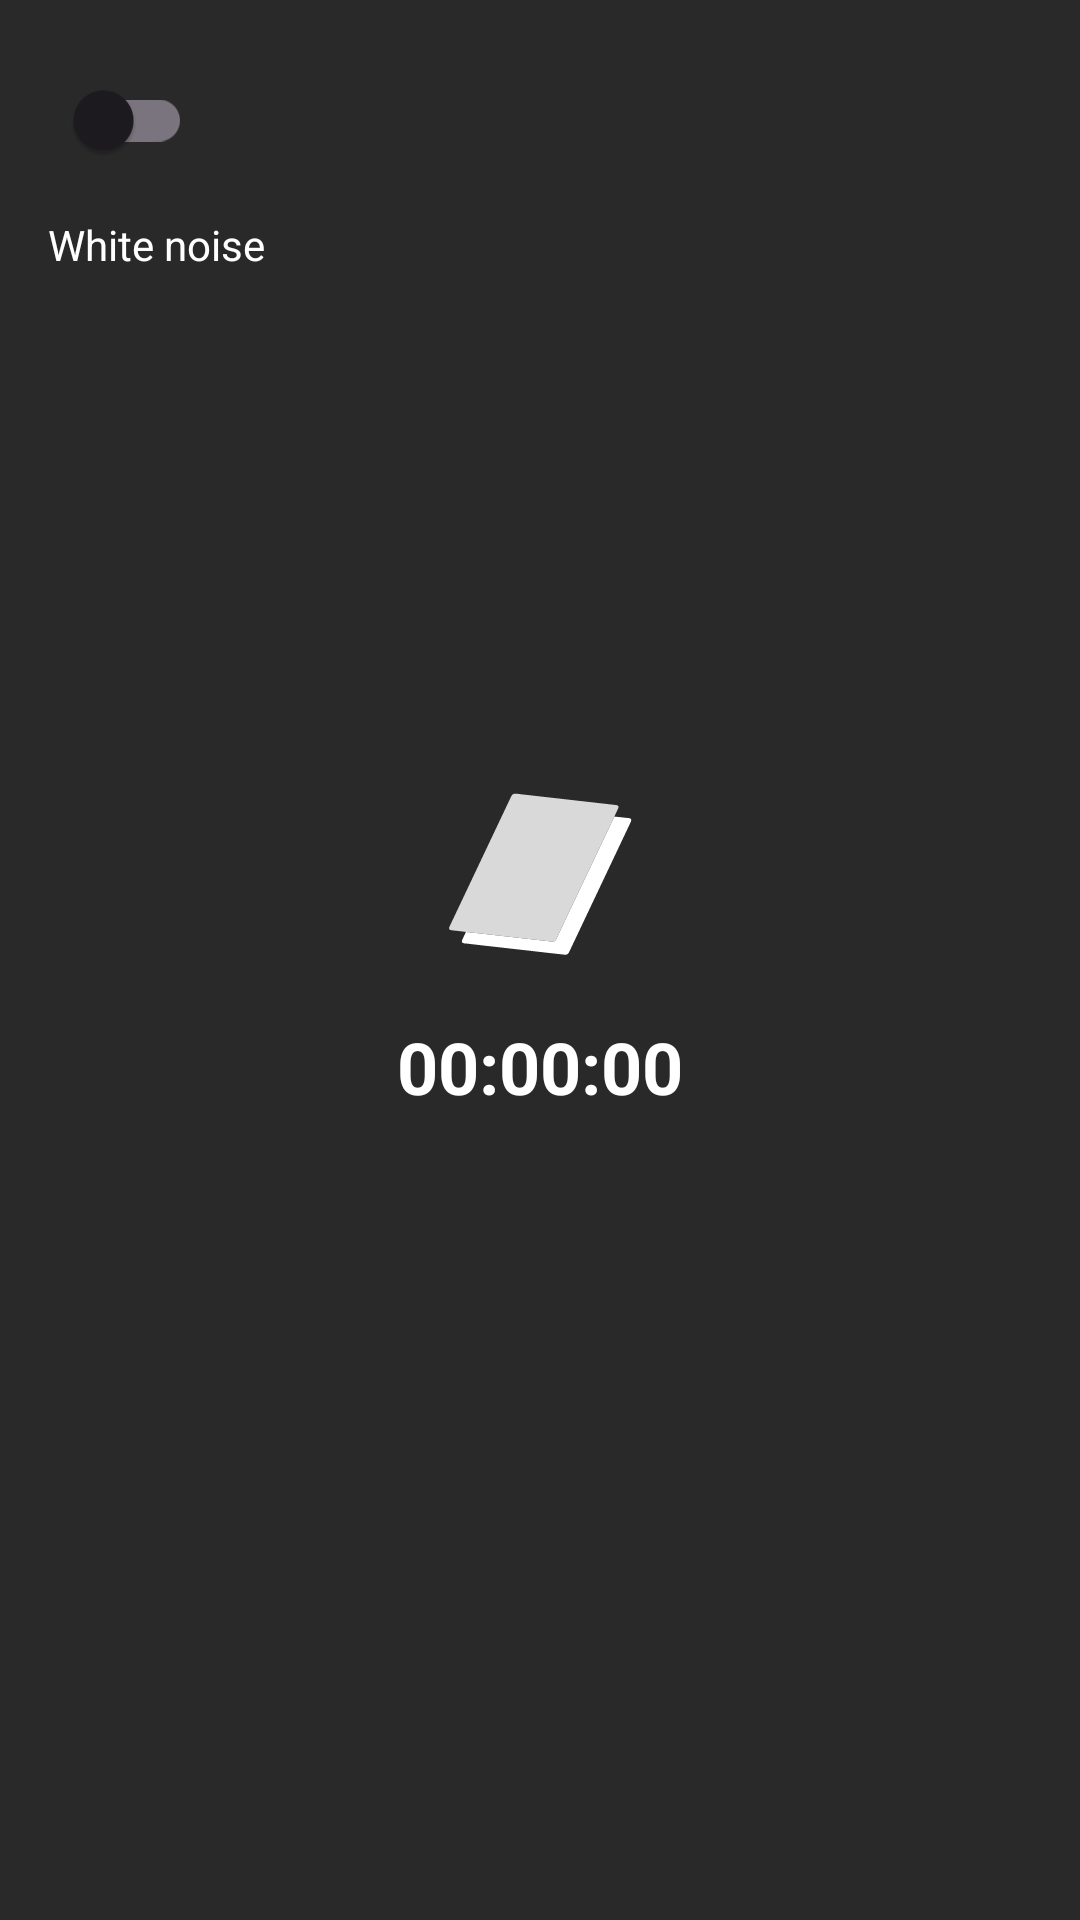

Icon bounding boxes for this 1080w x 1920h phone screenshot, format [x1,y1,x2,y2]:
bookicon focus: [449,793,632,955]
